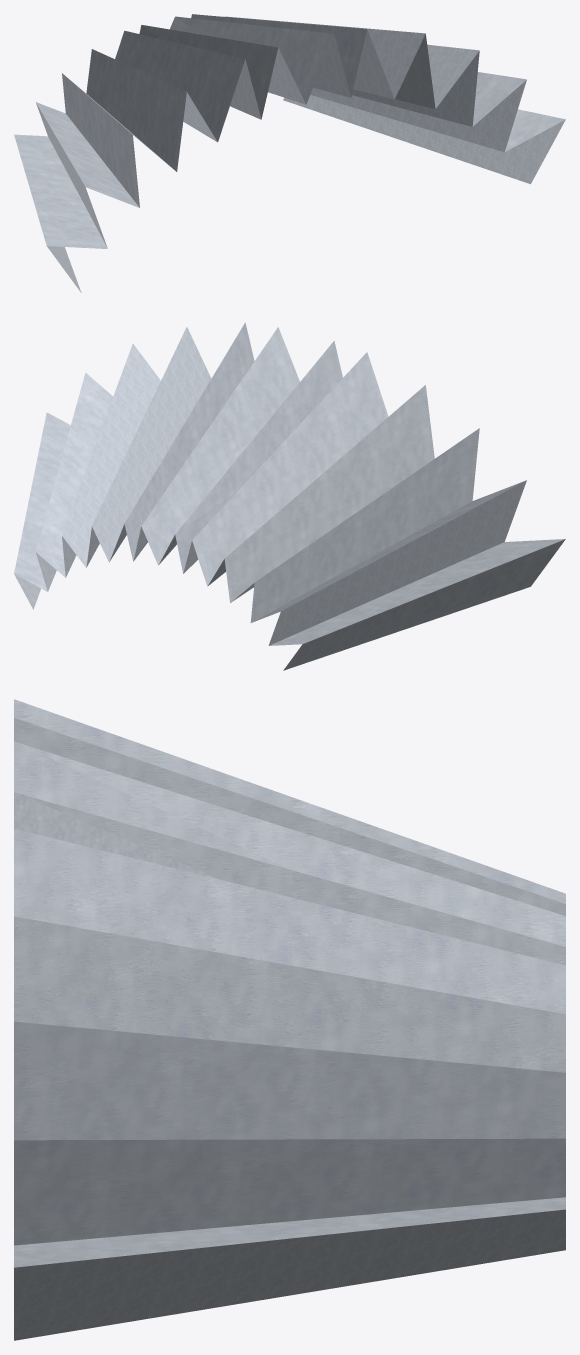
The model's file is AMFI.gltf.
3 views of the same model, one above another, from view 1: azimuth 30°, elevation 25°; view 2: azimuth 150°, elevation 25°; view 3: azimuth 270°, elevation 25° (orthographic). The views are drawn at different scales.
Parts seen in each view (by area): view 1: node2, node1; view 2: node2, node1; view 3: node2, node1.
Part boxes in pixels (left/top/right/bottom): node2: left=14, top=14, right=565, bottom=248; node1: left=36, top=14, right=565, bottom=292; node2: left=14, top=322, right=565, bottom=645; node1: left=14, top=327, right=528, bottom=670; node2: left=14, top=699, right=565, bottom=1267; node1: left=14, top=792, right=565, bottom=1340.
Bounding box in the file's own units: 40.49 × 14.79 × 20.
